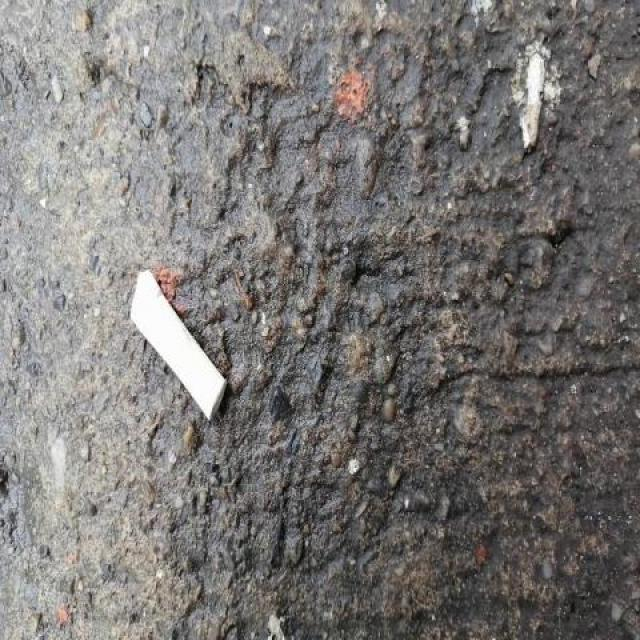non-organic waste: (127, 266, 229, 426)
